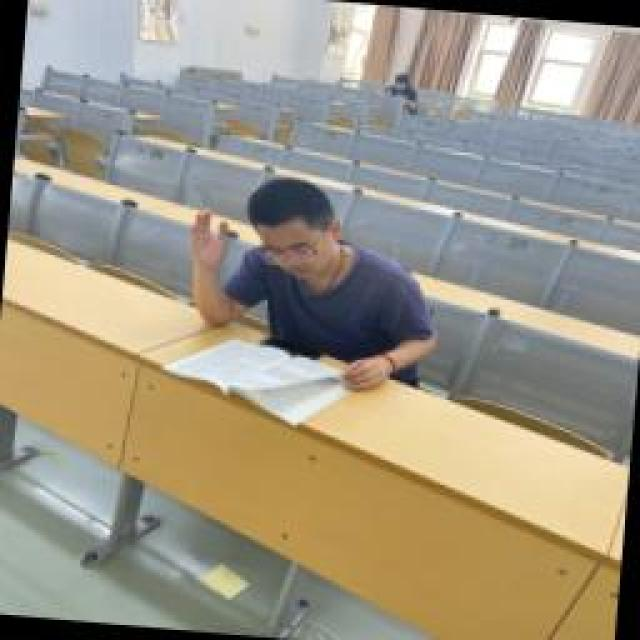study: (178, 170, 450, 425)
